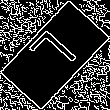L_SE: (25, 26, 85, 84)
